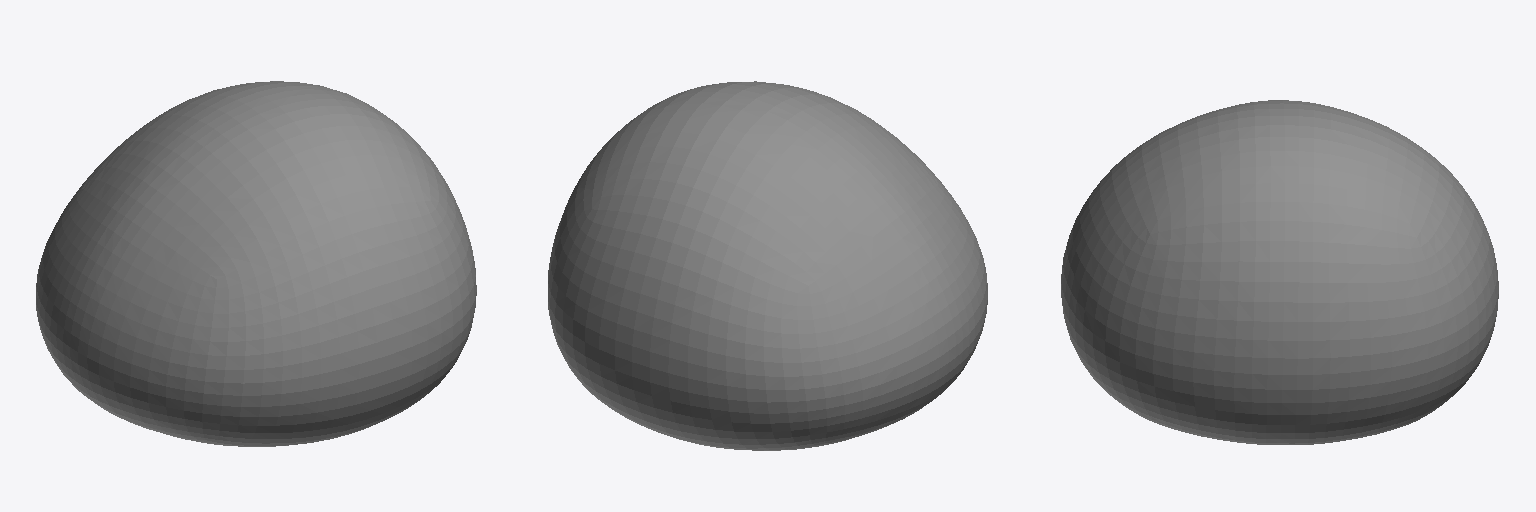
Rendered from BolaSueltaMorada.obj.
3 renders of one model, left to right at view 1: azimuth 30°, elevation 25°; view 2: azimuth 150°, elevation 25°; view 3: azimuth 270°, elevation 25°, orthographic.
Parts seen in each view (by area): view 1: cuerpoelectro001; view 2: cuerpoelectro001; view 3: cuerpoelectro001.
Part boxes in pixels (left/top/right/bottom): cuerpoelectro001: left=36, top=81, right=476, bottom=446; cuerpoelectro001: left=548, top=81, right=987, bottom=450; cuerpoelectro001: left=1061, top=100, right=1498, bottom=444.
Bounding box in the file's own units: 0.4079 × 0.3101 × 0.4132.